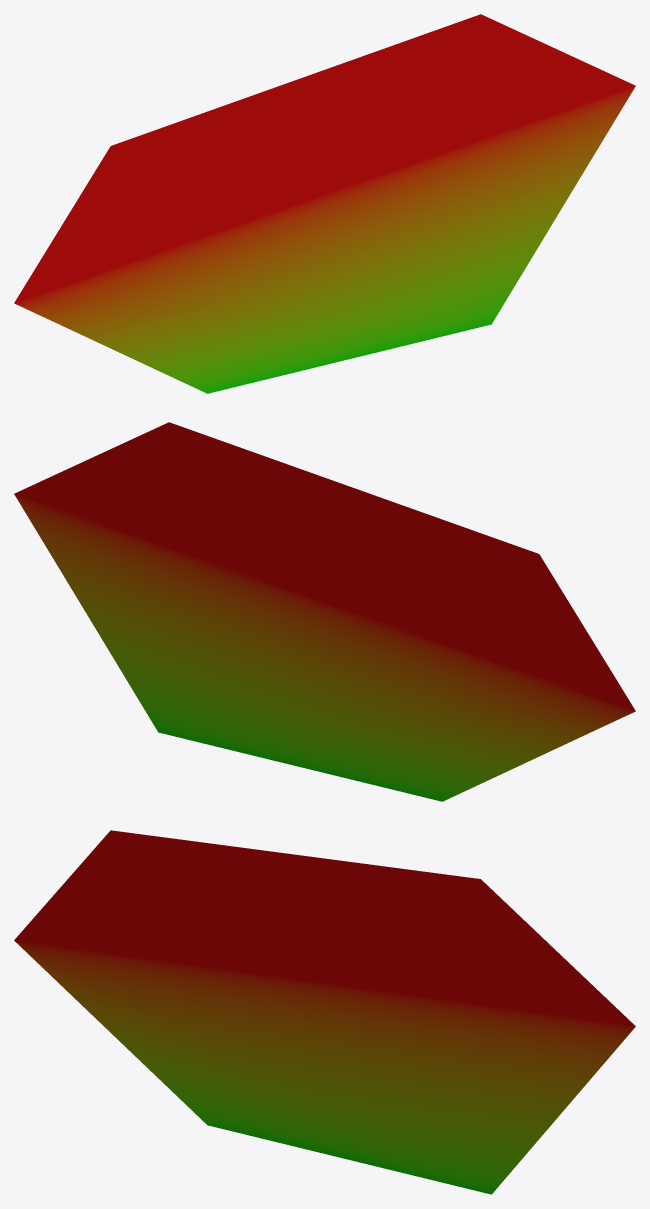
File: Desert Cotton_LOD6_Var5_xeogciyqx.fbx
3 renders of one model, top to bottom at view 1: azimuth 30°, elevation 25°; view 2: azimuth 150°, elevation 25°; view 3: azimuth 330°, elevation 25°, orthographic.
Parts seen in each view (by area): view 1: _8pau_Var5_LOD6; view 2: _8pau_Var5_LOD6; view 3: _8pau_Var5_LOD6.
Boxes of the visible parts, box(x1,y1,x2,y2) form: _8pau_Var5_LOD6: box(14, 14, 635, 393); _8pau_Var5_LOD6: box(14, 422, 635, 801); _8pau_Var5_LOD6: box(14, 830, 635, 1194).
Size of the model in its own units: 55.56 by 26.71 by 4.35e-06.
